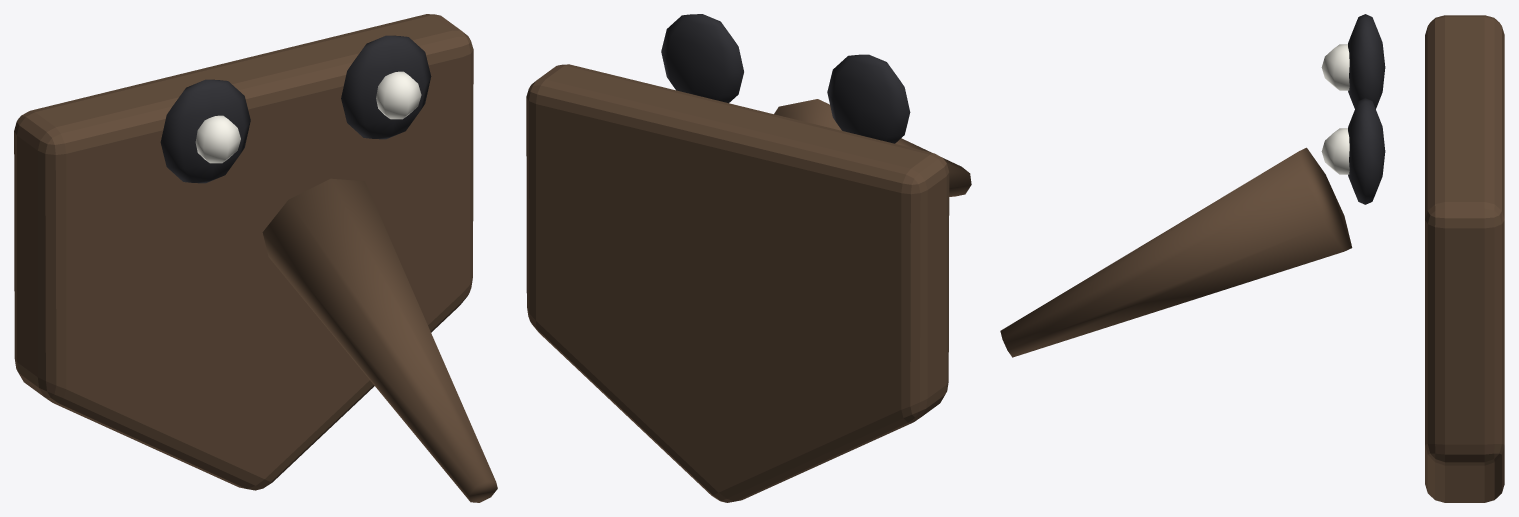
Rendered from mask_plague_doctor.glb.
The picture shows the model from 3 angles, left to right: view 1: azimuth 30°, elevation 25°; view 2: azimuth 150°, elevation 25°; view 3: azimuth 270°, elevation 25°; orthographic projection. The views are drawn at different scales.
Parts seen in each view (by area): view 1: GD_mask_plague_doctor__m0, GD_mask_plague_doctor__m1, GD_mask_plague_doctor__m2; view 2: GD_mask_plague_doctor__m0, GD_mask_plague_doctor__m1; view 3: GD_mask_plague_doctor__m0, GD_mask_plague_doctor__m1, GD_mask_plague_doctor__m2.
Part boxes in pixels (bbox=[...]): GD_mask_plague_doctor__m0: bbox=[14, 14, 497, 502]; GD_mask_plague_doctor__m1: bbox=[160, 35, 431, 183]; GD_mask_plague_doctor__m2: bbox=[195, 71, 421, 163]; GD_mask_plague_doctor__m0: bbox=[526, 64, 971, 502]; GD_mask_plague_doctor__m1: bbox=[661, 14, 910, 143]; GD_mask_plague_doctor__m0: bbox=[1000, 15, 1504, 502]; GD_mask_plague_doctor__m1: bbox=[1348, 14, 1385, 204]; GD_mask_plague_doctor__m2: bbox=[1321, 44, 1349, 174].
Size of the model in its own units: 0.24 by 0.2442 by 0.2536.
